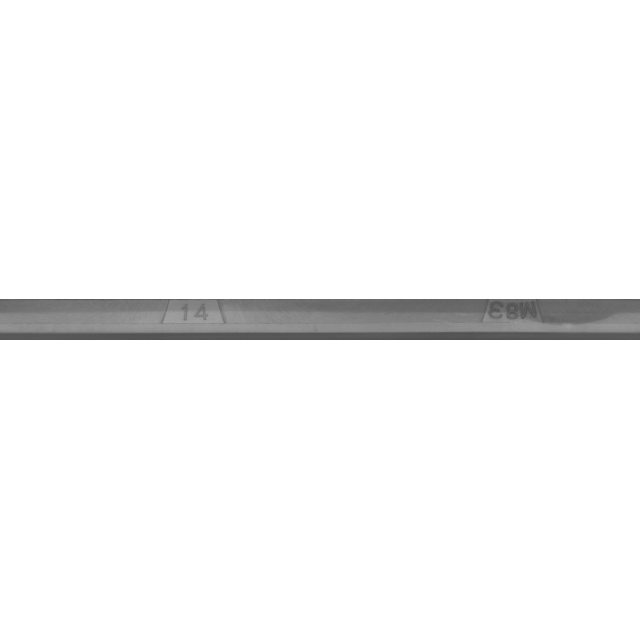mohao: (413, 270, 613, 370)
xuehao: (93, 270, 293, 370)
